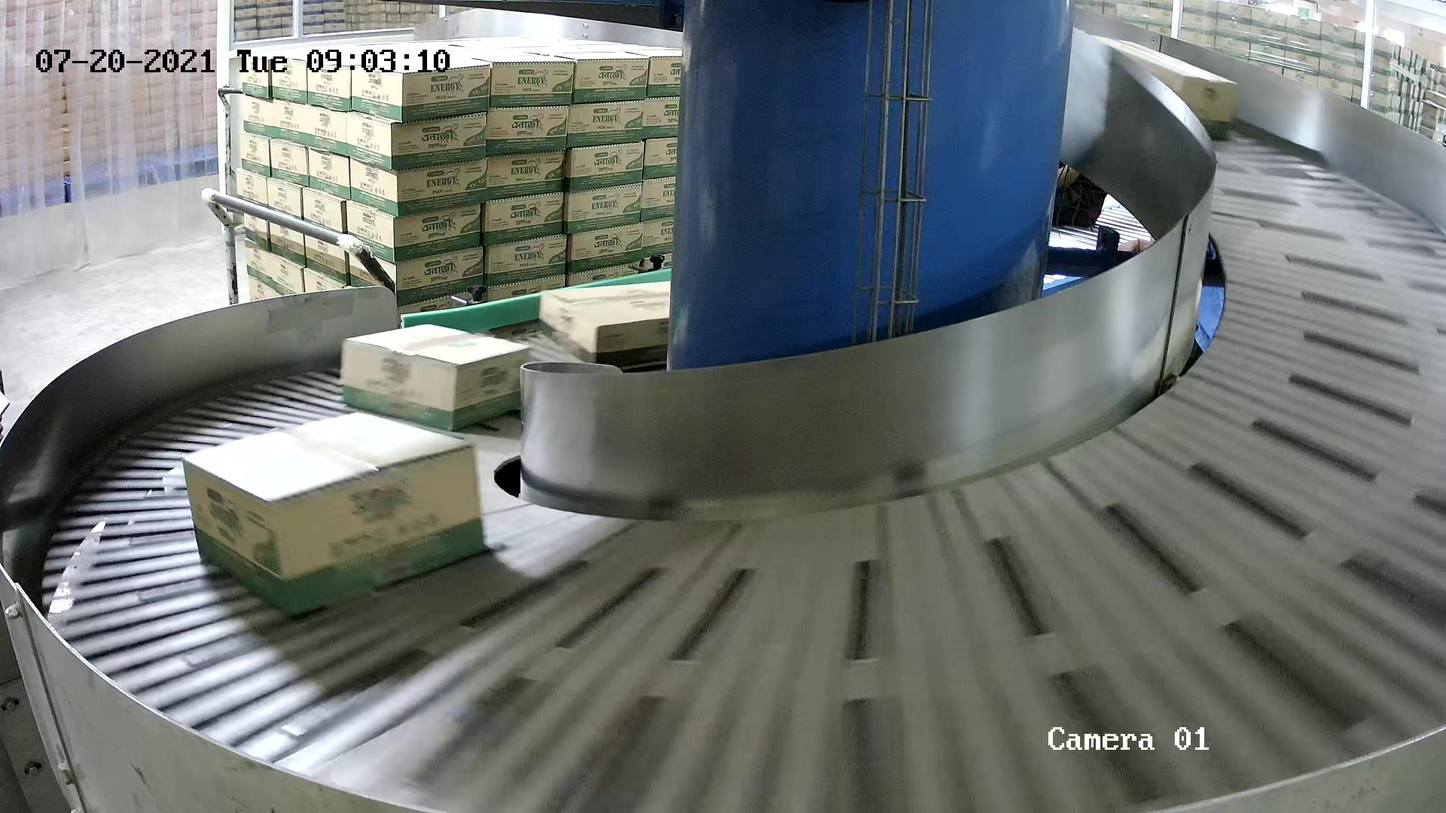Box: (180, 410, 487, 617), (338, 322, 532, 432), (1086, 33, 1240, 139), (538, 279, 671, 372)
